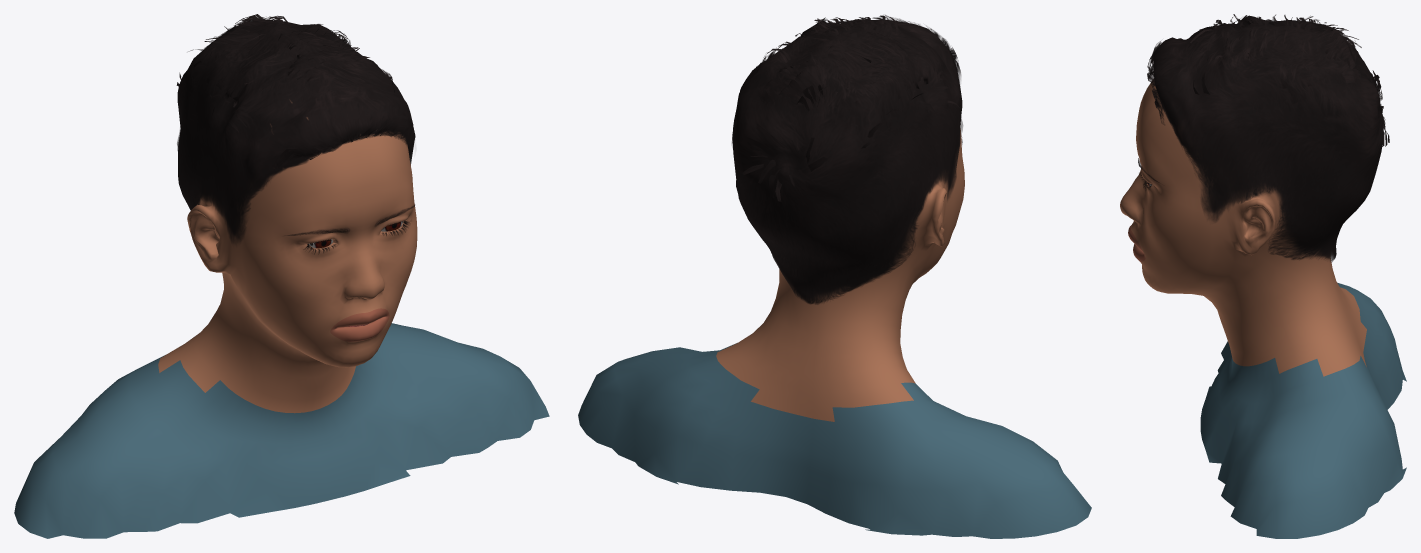
The model's file is neutral-06.glb.
3 renders of one model, left to right at view 1: azimuth 30°, elevation 25°; view 2: azimuth 150°, elevation 25°; view 3: azimuth 270°, elevation 25°, orthographic. The views are drawn at different scales.
Visible parts, largest first — view 1: mpfb-face, mpfb-face.short01; view 2: mpfb-face, mpfb-face.short01; view 3: mpfb-face, mpfb-face.short01.
Part boxes in pixels (box(x1,y1,x2,y2)): mpfb-face: box(14, 100, 549, 538); mpfb-face.short01: box(176, 14, 415, 244); mpfb-face: box(578, 128, 1091, 538); mpfb-face.short01: box(731, 15, 962, 304); mpfb-face: box(1120, 81, 1406, 538); mpfb-face.short01: box(1147, 14, 1389, 262).
Size of the model in its own units: 0.422 by 0.3458 by 0.2237.
9 materials, 6 textured.
